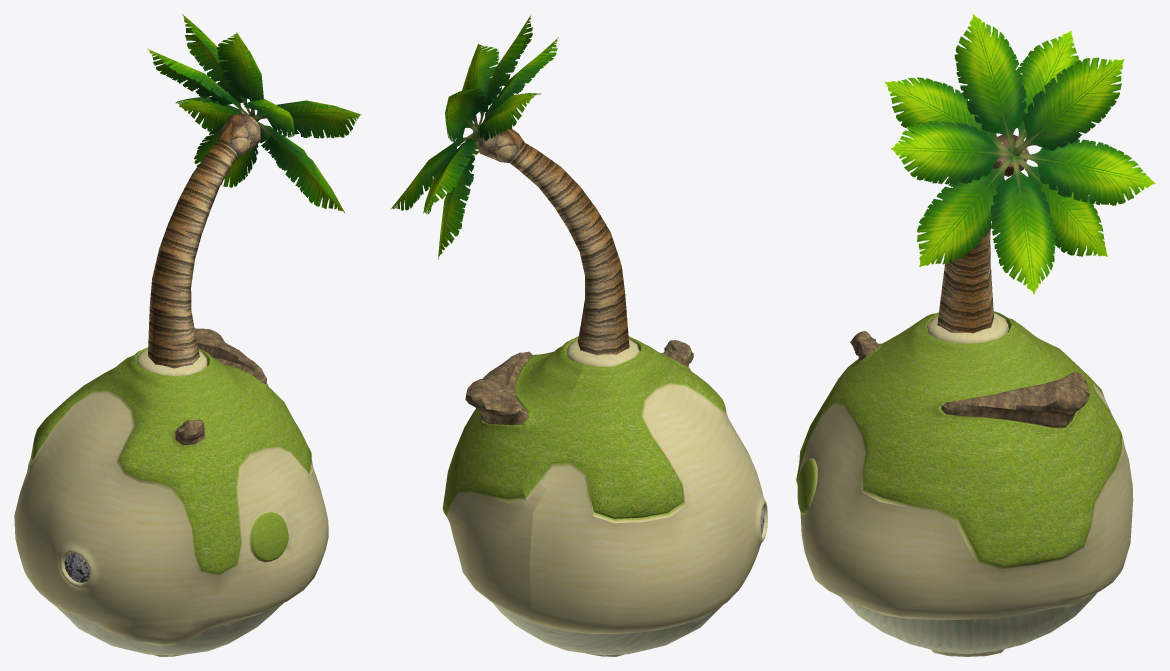
The model's file is coconut_a.fbx.
3 renders of one model, left to right at view 1: azimuth 30°, elevation 25°; view 2: azimuth 150°, elevation 25°; view 3: azimuth 270°, elevation 25°, orthographic. The views are drawn at different scales.
Visible parts, largest first — view 1: n3b7, n2b5, n0b1, n1b2, n6b3, n4b6, n5b8, n8b0; view 2: n3b7, n2b5, n0b1, n1b2, n6b3, n5b8, n4b6; view 3: n2b5, n0b1, n3b7, n6b3, n5b8, n1b2, n4b6.
Boxes of the visible parts, x1,y1,x2,y2 form: n3b7: [14, 349, 328, 656]; n2b5: [31, 347, 311, 573]; n0b1: [147, 14, 361, 212]; n1b2: [148, 113, 261, 368]; n6b3: [54, 603, 283, 655]; n4b6: [28, 389, 312, 575]; n5b8: [175, 328, 266, 445]; n8b0: [64, 553, 89, 582]; n3b7: [447, 339, 767, 656]; n2b5: [442, 336, 725, 518]; n0b1: [390, 14, 558, 259]; n1b2: [476, 127, 629, 355]; n6b3: [493, 603, 722, 655]; n5b8: [465, 340, 693, 424]; n4b6: [446, 382, 726, 523]; n2b5: [796, 311, 1122, 566]; n0b1: [885, 14, 1155, 293]; n3b7: [800, 313, 1133, 656]; n6b3: [840, 592, 1097, 654]; n5b8: [850, 331, 1089, 427]; n1b2: [937, 134, 1029, 333]; n4b6: [797, 382, 1123, 568].
Size of the model in its own units: 2432 by 4489 by 2184.
9 materials, 9 textured.
